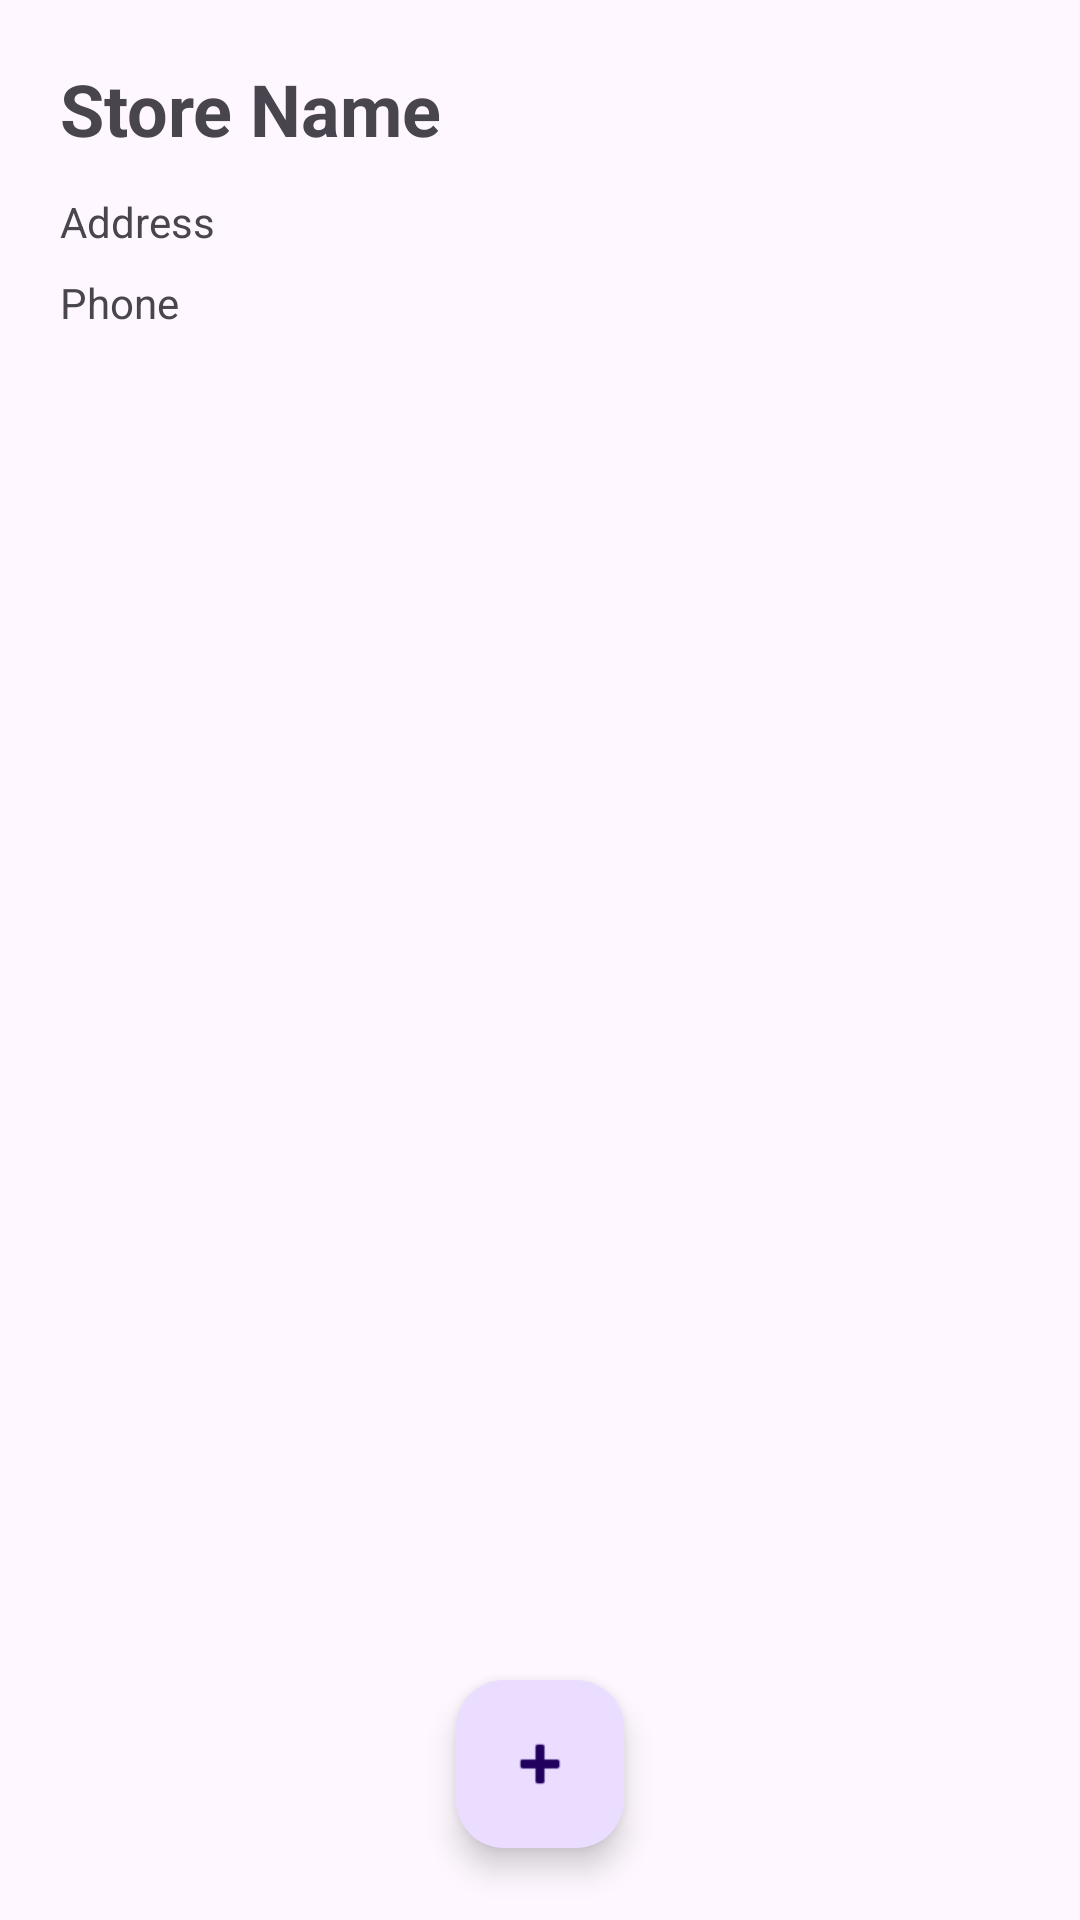

Named icons in this screenshot (1080x1920) and their centers, (x=x, y=y):
add: (x=540, y=1764)
